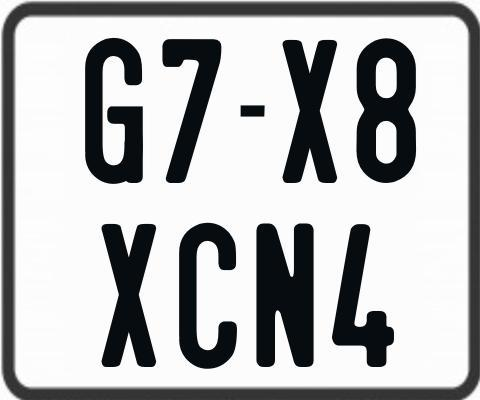4: (331, 223, 393, 367)
7: (159, 37, 224, 183)
8: (354, 38, 415, 189)
C: (179, 221, 238, 368)
G: (83, 36, 145, 188)
N: (255, 220, 314, 370)
X: (99, 224, 156, 373), (281, 37, 340, 180)
